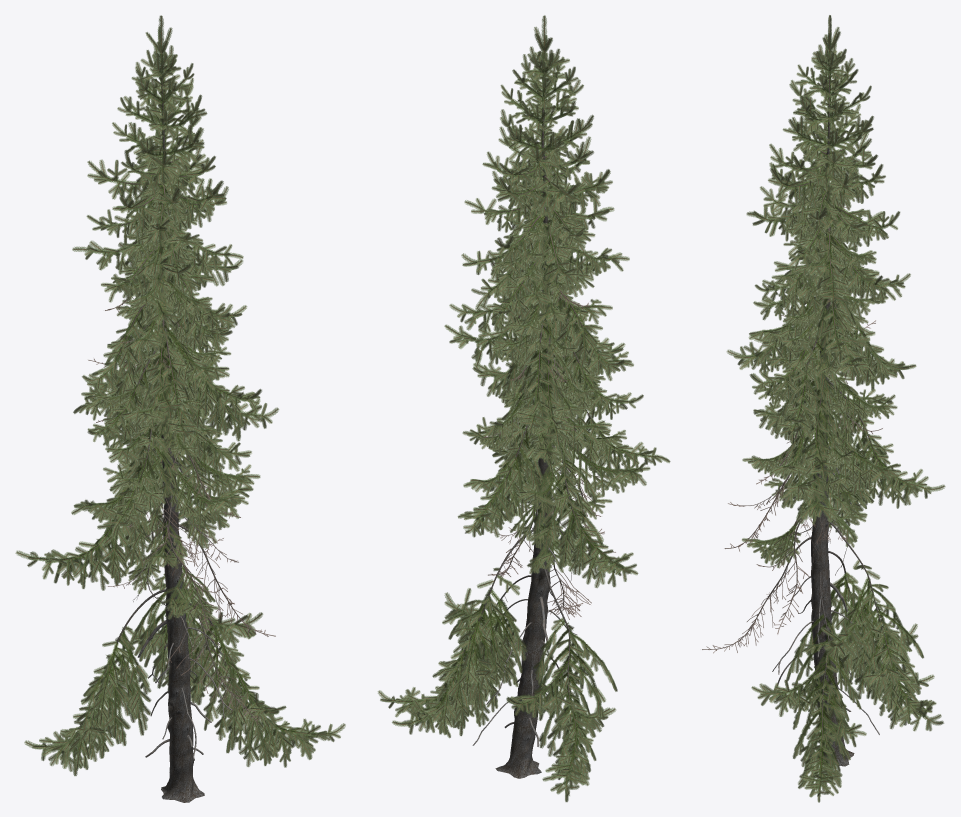
The model's file is black_spruce.glb.
The picture shows the model from 3 angles, left to right: view 1: azimuth 30°, elevation 25°; view 2: azimuth 150°, elevation 25°; view 3: azimuth 270°, elevation 25°; orthographic projection. The views are drawn at different scales.
Parts seen in each view (by area): view 1: Picea_mariana_HD; view 2: Picea_mariana_HD; view 3: Picea_mariana_HD.
Part boxes in pixels (x1,y1,x2,y2): Picea_mariana_HD: (15, 15, 345, 802); Picea_mariana_HD: (377, 15, 670, 802); Picea_mariana_HD: (702, 15, 945, 802).
Size of the model in its own units: 1.99 by 4.99 by 1.52.
9 materials, 8 textured.
